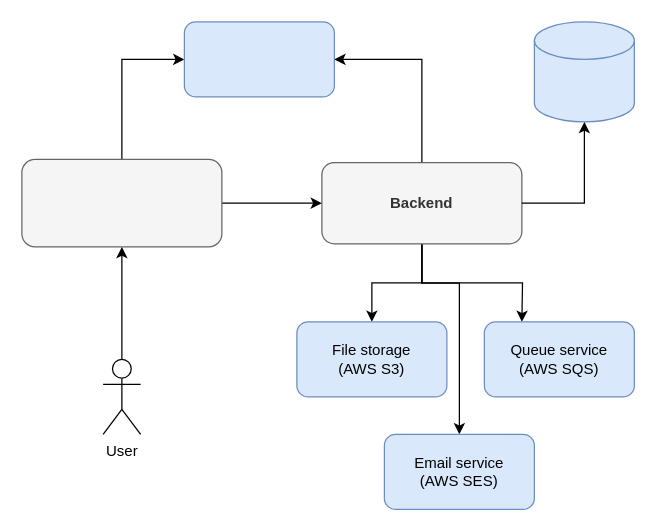
Some shapes in this 656 by 531 pixel diagram are drawn without their labels. Each missing label, with the centre of its shape:
"Authentication server (AWS Cognito)" goes at point 258,59.
"Database (MongoDB)" goes at point 583,71.
"Frontend" goes at point 121,202.
